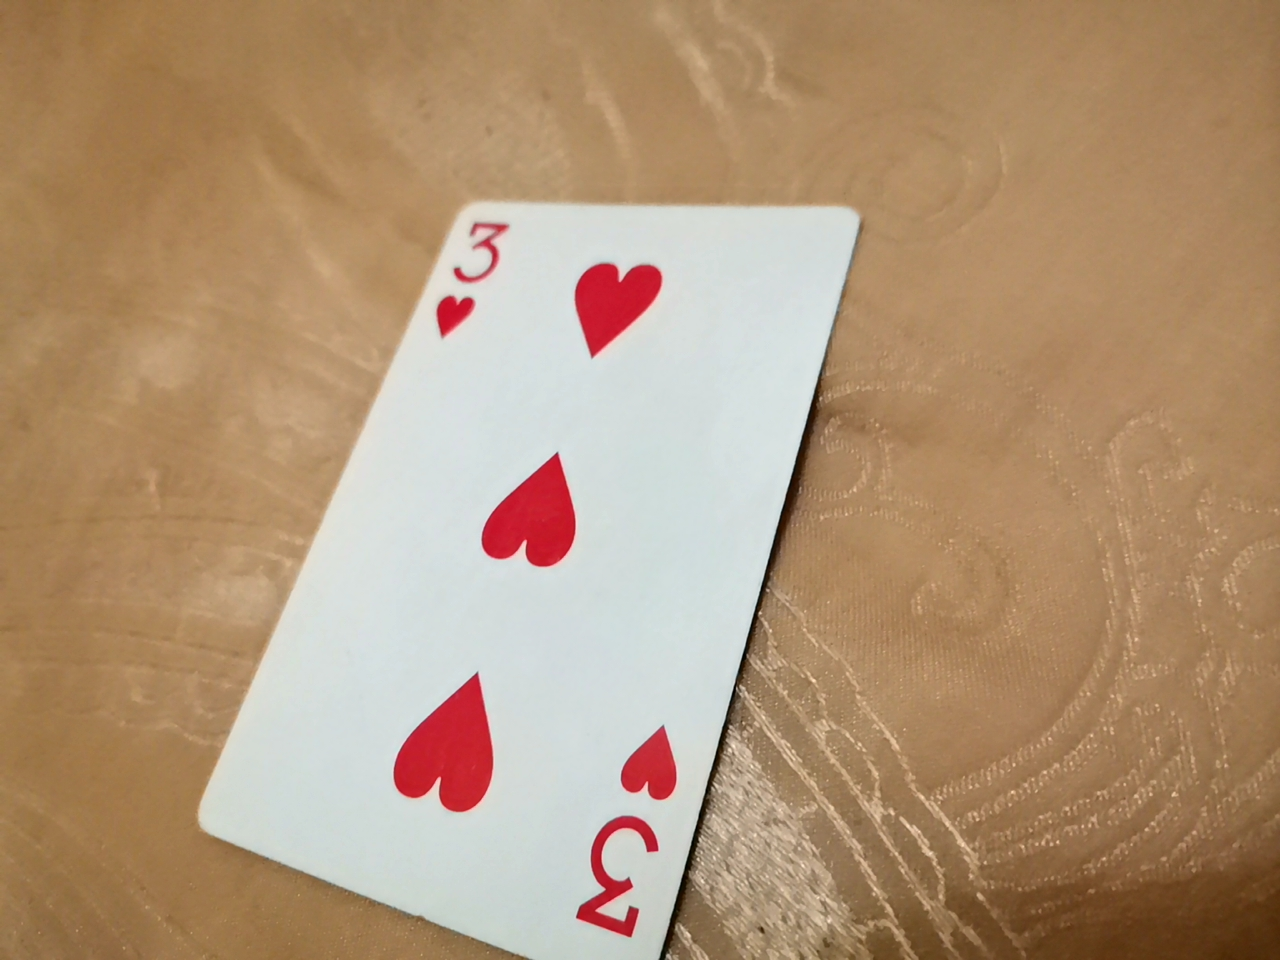hx 3: (240, 78, 900, 887)
